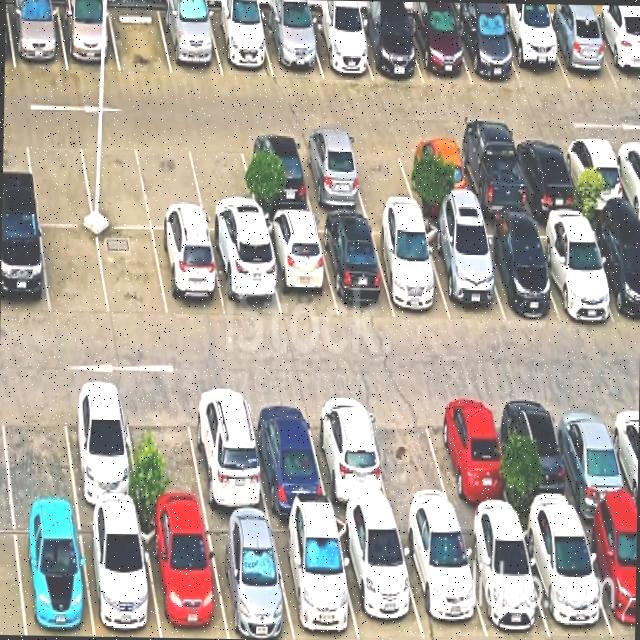empty: (363, 394, 456, 517), (123, 388, 206, 513), (0, 386, 76, 510), (187, 135, 260, 231), (78, 133, 151, 228), (136, 135, 206, 228), (24, 131, 93, 224), (97, 228, 167, 319), (40, 226, 109, 316), (345, 136, 417, 211), (108, 5, 172, 74)
occupied: (519, 517, 612, 640), (457, 518, 550, 639), (204, 515, 294, 640), (334, 517, 424, 640), (396, 518, 487, 638), (270, 517, 358, 640), (140, 514, 227, 638), (428, 394, 514, 518), (305, 393, 392, 515), (185, 388, 268, 514), (551, 394, 635, 516), (79, 512, 160, 637), (61, 385, 140, 511), (246, 392, 328, 513), (499, 393, 579, 517), (13, 512, 93, 636), (532, 218, 616, 319), (474, 222, 558, 319), (422, 223, 505, 320), (369, 220, 449, 319), (261, 218, 337, 319), (316, 219, 394, 316), (579, 514, 637, 640), (152, 230, 225, 317), (208, 232, 281, 318), (452, 138, 529, 216), (586, 217, 640, 326), (240, 136, 313, 214), (400, 138, 473, 214), (542, 16, 618, 89), (295, 136, 367, 213), (497, 16, 570, 89), (560, 136, 629, 212), (510, 137, 580, 211), (453, 12, 521, 87), (406, 12, 472, 84), (0, 220, 49, 315), (355, 14, 422, 82), (207, 9, 273, 77), (158, 6, 222, 76), (306, 14, 372, 80), (57, 4, 119, 70), (6, 4, 67, 69), (260, 13, 322, 76), (591, 18, 640, 90)
